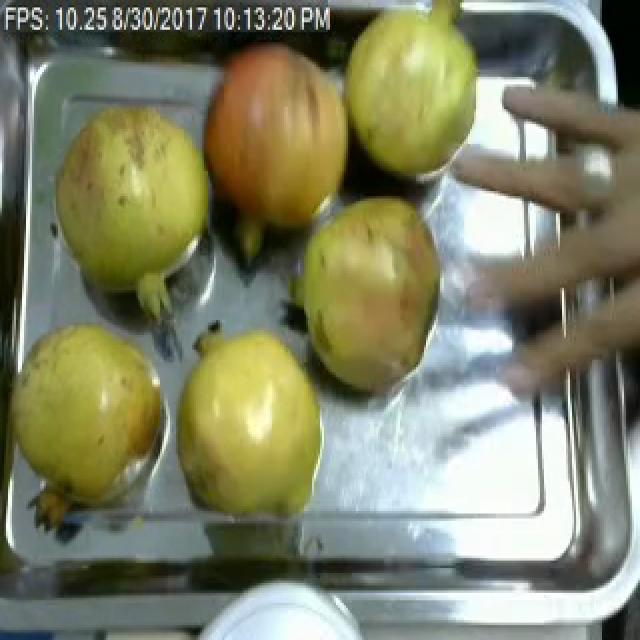fruit: (158, 298, 336, 543), (0, 302, 182, 540), (278, 181, 450, 407), (44, 94, 220, 310), (332, 2, 496, 191)
